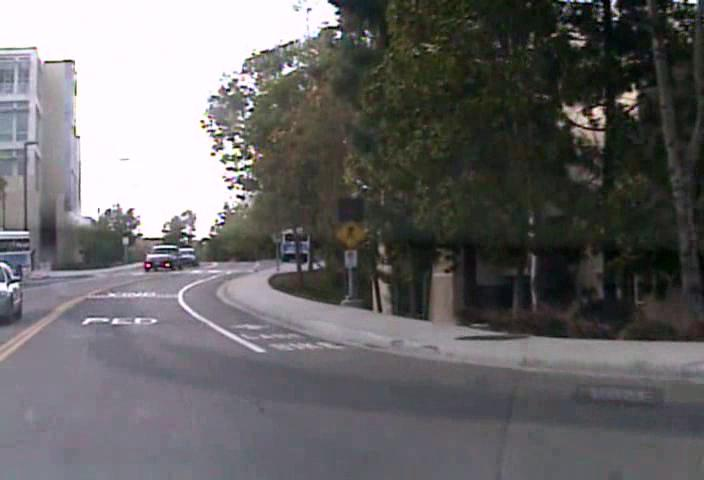pedestrianCrossing: (333, 217, 367, 248)
